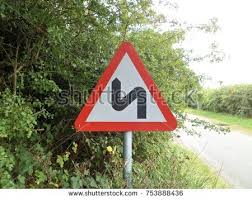Double_bend_left: (69, 36, 189, 135)
